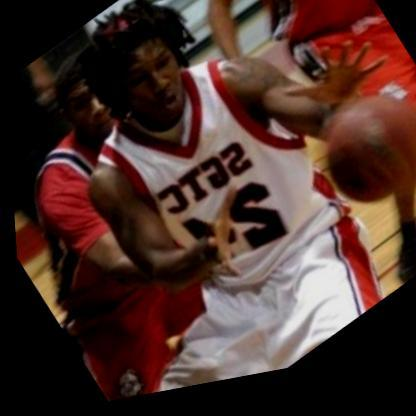basketball: (293, 76, 416, 244)
